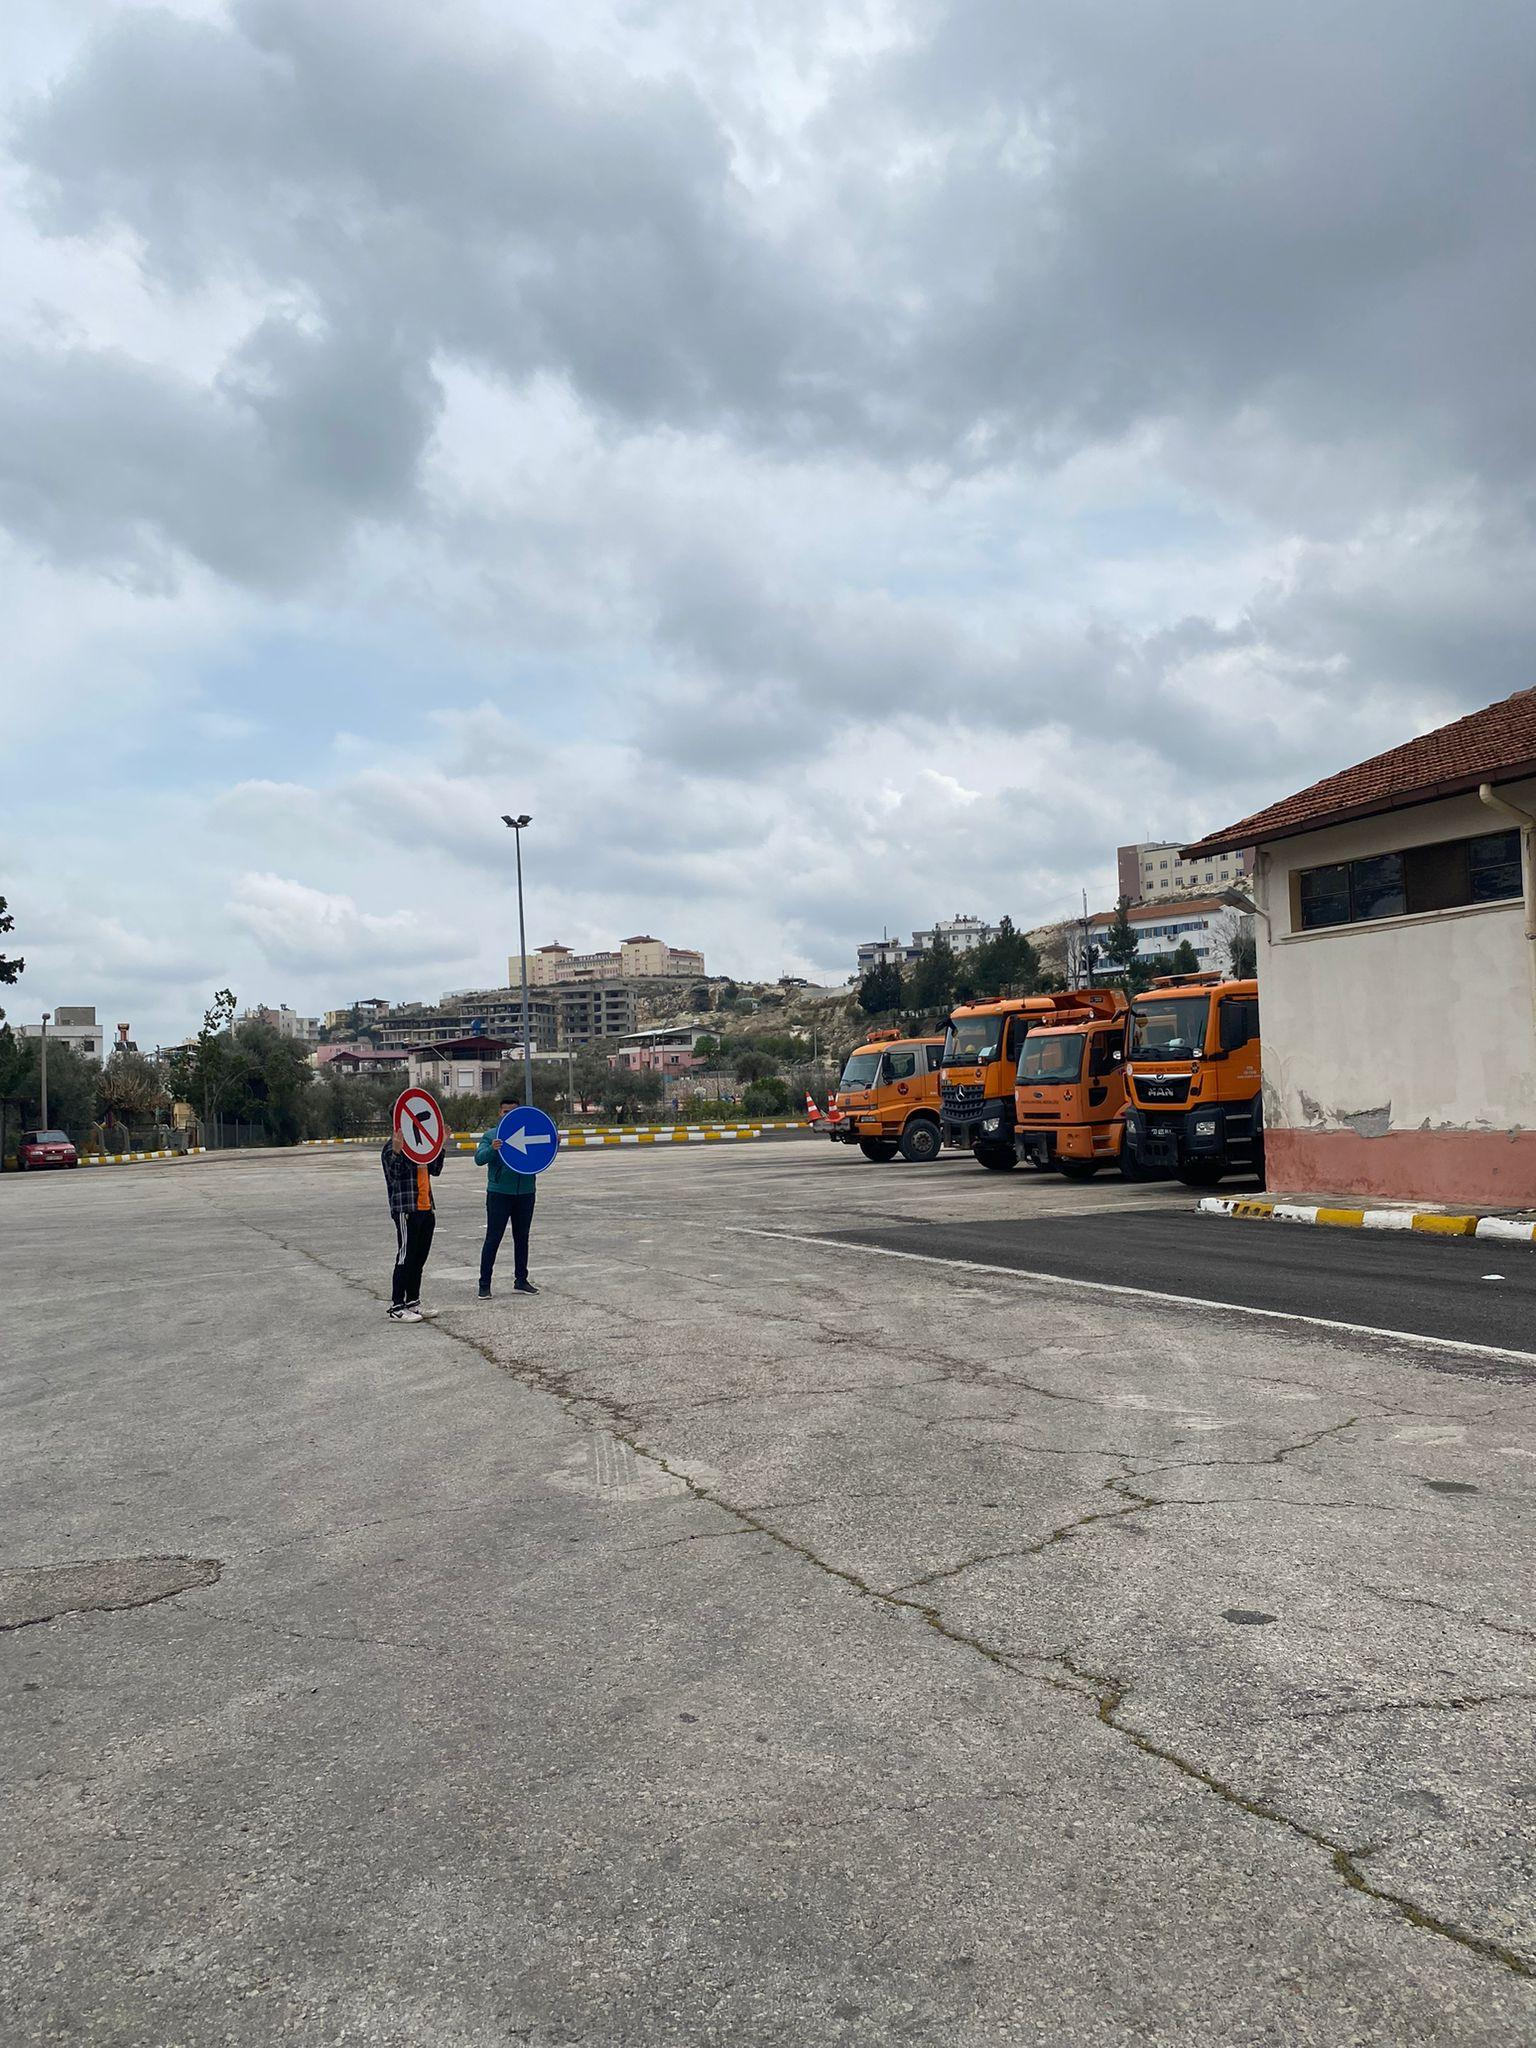rightturnsareforbidden: (394, 1087, 445, 1164)
turnleft: (497, 1105, 558, 1176)
